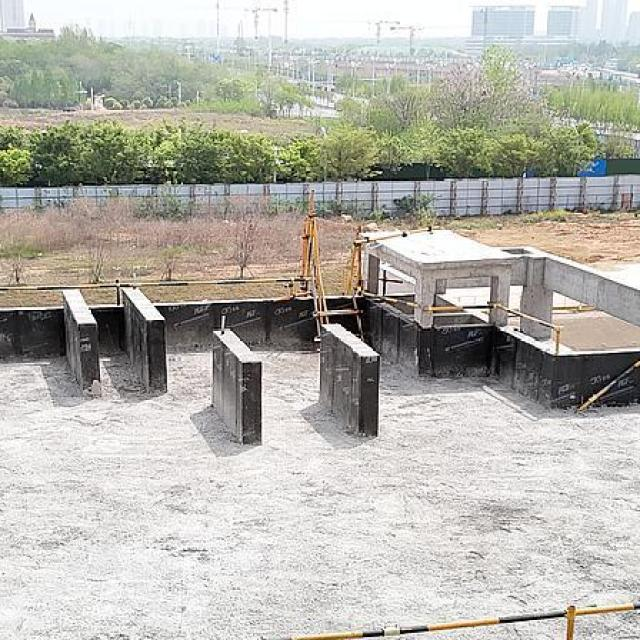edge_guardrail: (273, 603, 640, 640), (360, 289, 561, 355), (0, 276, 313, 307), (575, 358, 640, 427)
